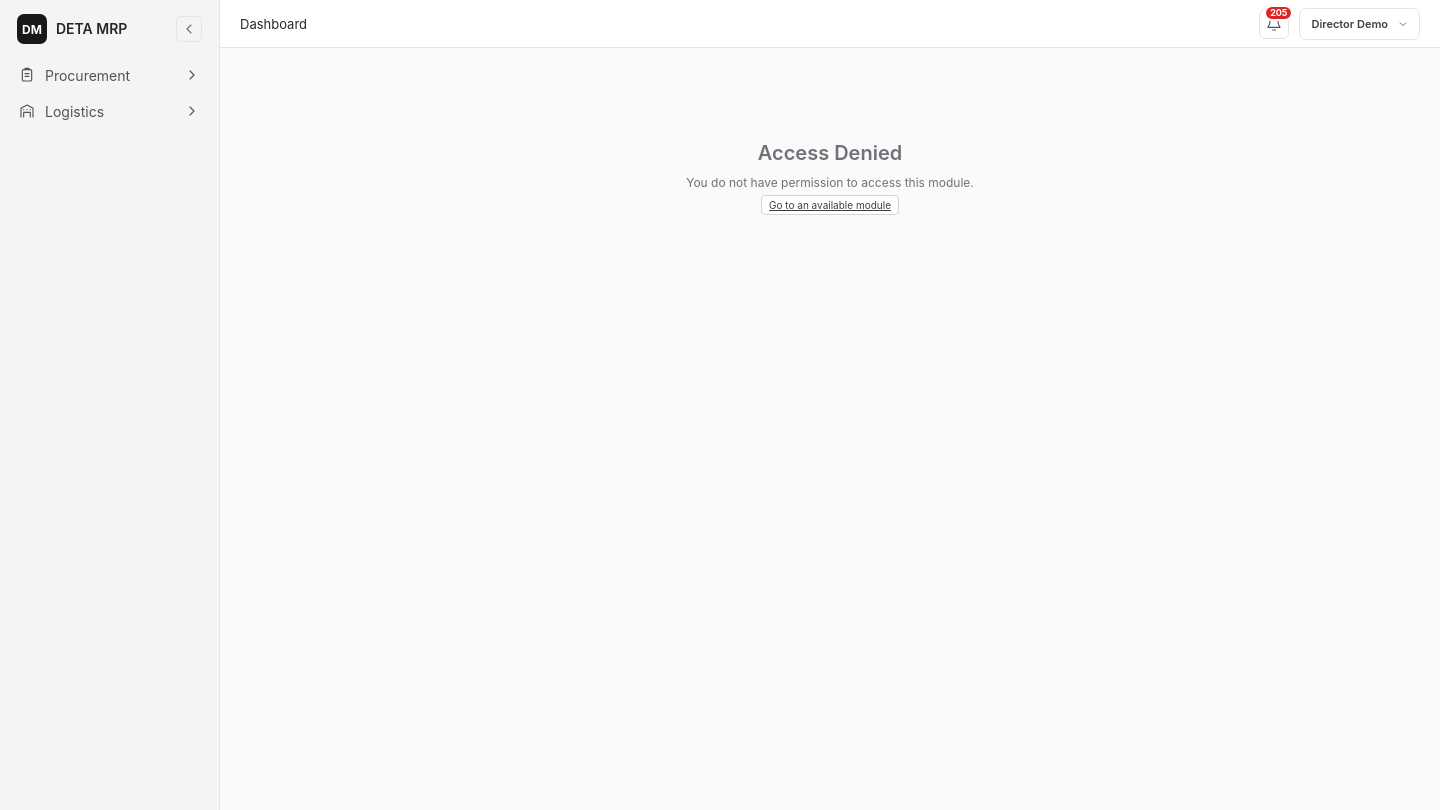
Test: AppShell › uses enriched approvals and API total with real Director permissions
Expected: the text "Director Demo" is shown, [1312, 16, 1388, 30]
Expected: the text with test id "notification-badge" reads "205", [1270, 7, 1287, 18]
What coordinates should you click on to do the following:
click the button named "Notifications"
I would click on:
 (1274, 24)
Its box is [1260, 8, 1290, 38].
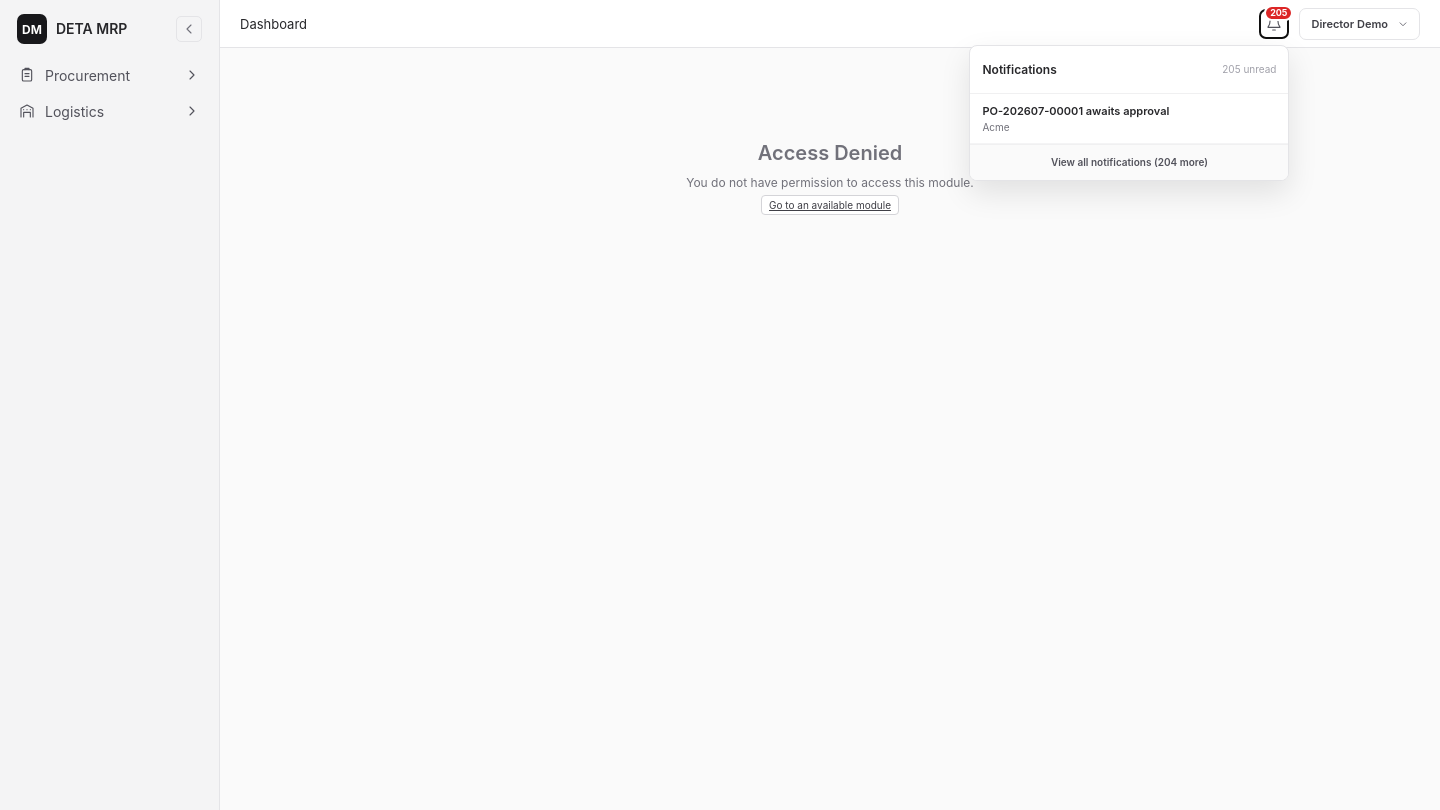
Now the text "Acme" is shown, box [982, 120, 1010, 132]
